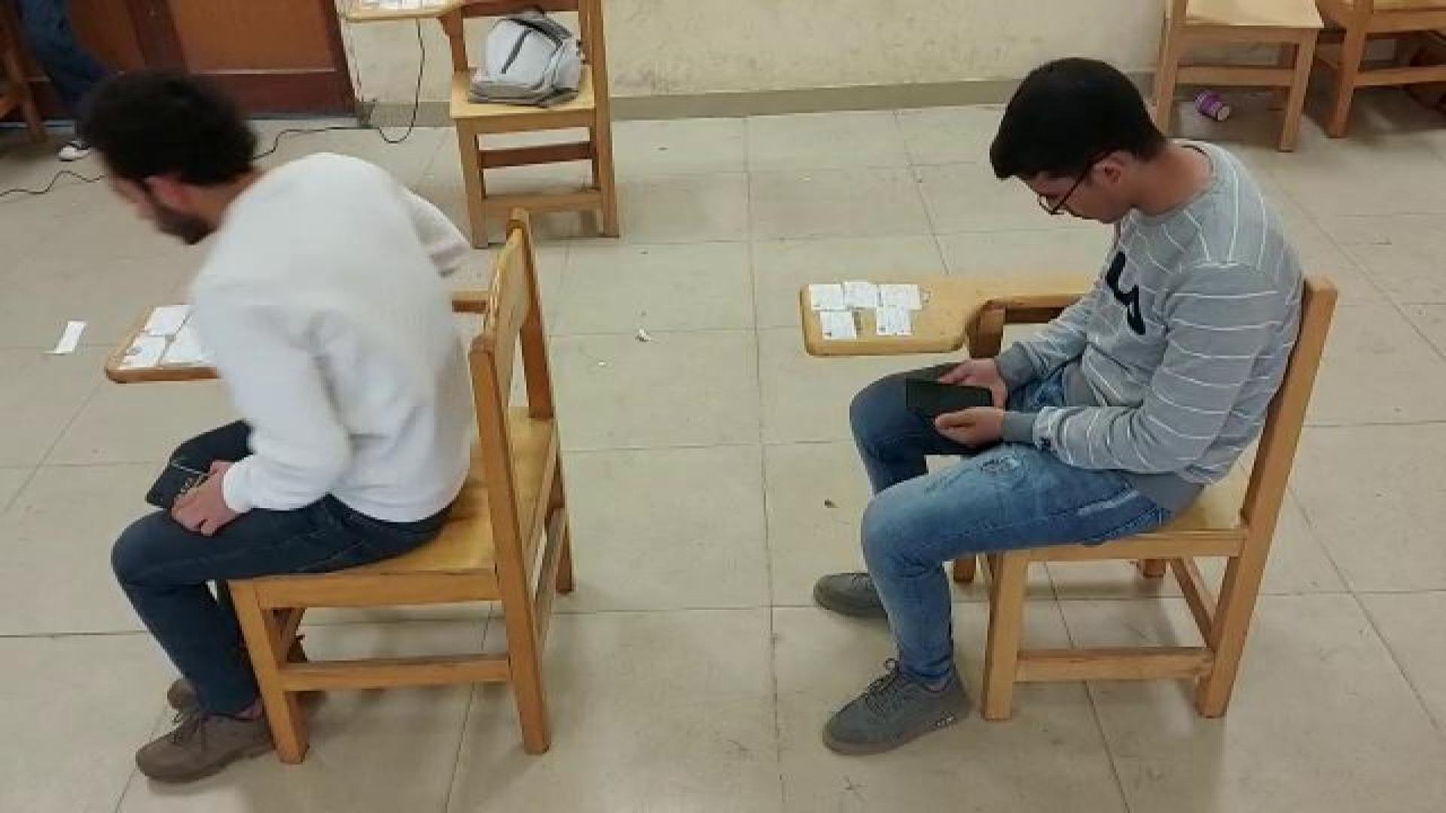phone: (899, 374, 994, 436), (142, 455, 206, 508)
